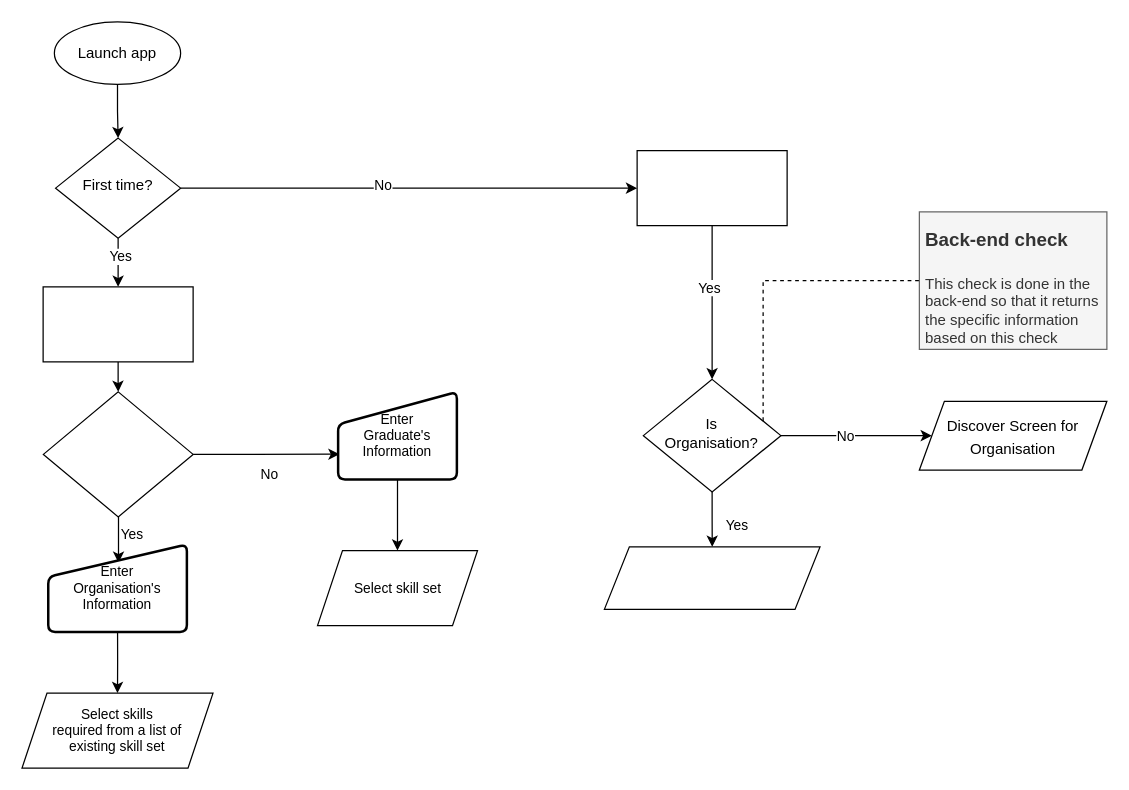
This 1129x790 diagram has some shape labels left out. The shapes that lost their labels are listed below. From the top down, each one's centre as x and y in pixels, then its label:
At [711,187]: "Login".
At [117,324]: "Register".
At [117,454]: "Register as organisation ?".
At [711,577]: "Discover Screen for Grads".
